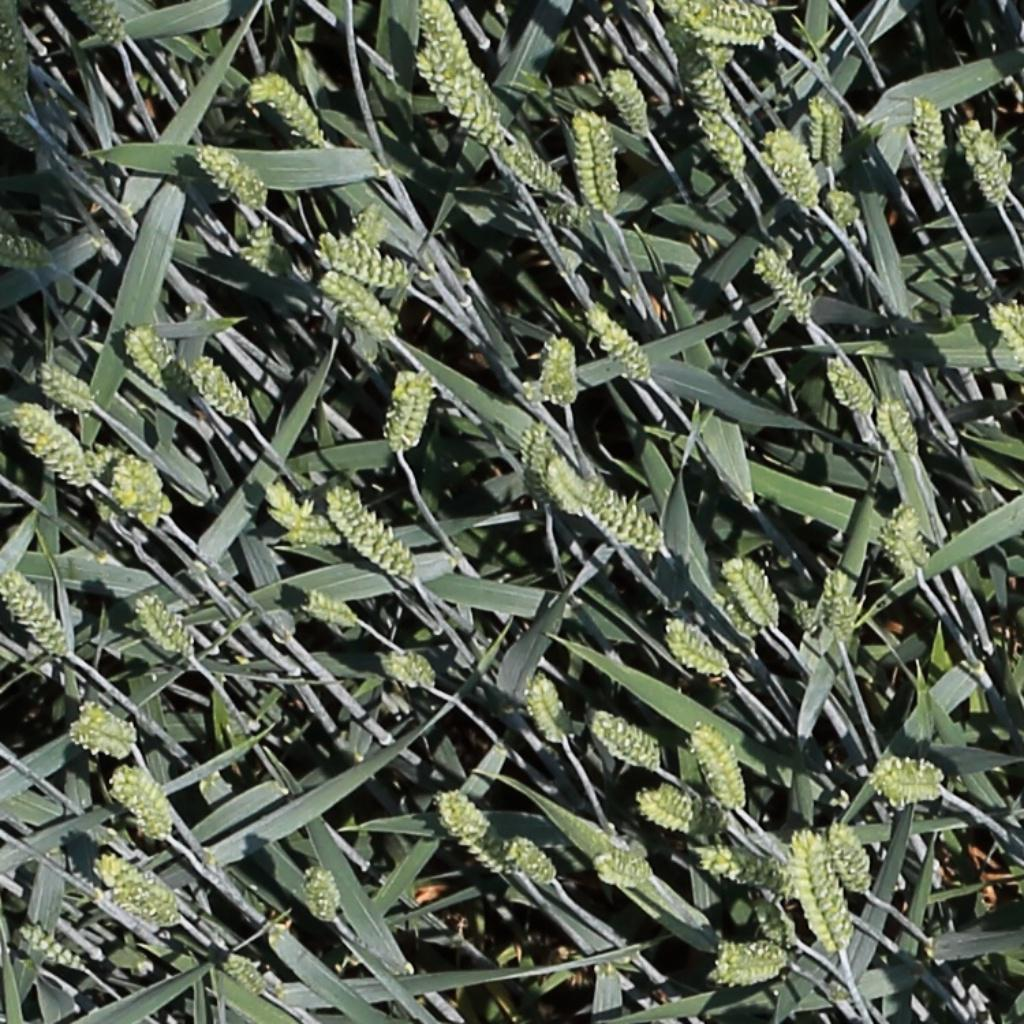0-0: (408, 41, 509, 149), (417, 0, 503, 123), (787, 824, 851, 958), (329, 487, 419, 582), (665, 23, 743, 129), (429, 785, 514, 880), (333, 193, 389, 333), (85, 849, 184, 928), (582, 477, 673, 560), (10, 401, 93, 486), (0, 567, 73, 662), (652, 0, 788, 48), (572, 106, 628, 220), (696, 842, 804, 899), (252, 73, 330, 150), (585, 301, 656, 383), (690, 720, 750, 816), (195, 140, 273, 210), (65, 698, 149, 763), (105, 455, 173, 531), (756, 243, 819, 324), (111, 767, 176, 845), (591, 701, 662, 772), (132, 592, 199, 666), (767, 125, 824, 211), (381, 365, 434, 455), (721, 555, 781, 634), (187, 353, 253, 423), (78, 444, 130, 532), (316, 237, 409, 285), (963, 112, 1016, 195), (697, 102, 752, 181), (320, 273, 394, 330), (519, 666, 567, 750), (607, 64, 658, 143), (826, 350, 882, 421), (708, 942, 788, 991), (909, 88, 947, 191), (828, 821, 876, 901), (67, 0, 145, 49), (501, 140, 567, 195), (669, 622, 734, 677), (124, 320, 172, 394), (882, 502, 930, 576), (640, 795, 726, 836), (537, 329, 577, 415), (869, 755, 943, 801), (219, 950, 286, 1000), (546, 450, 593, 520), (16, 924, 84, 972), (747, 894, 803, 952), (236, 218, 291, 277), (880, 393, 925, 464), (823, 565, 862, 646), (964, 145, 1007, 217), (505, 838, 561, 890), (589, 842, 651, 888), (260, 514, 346, 547), (38, 361, 95, 410), (522, 416, 552, 507), (293, 589, 360, 629), (985, 299, 1024, 367), (705, 582, 756, 633), (3, 208, 40, 277), (0, 0, 27, 91), (305, 860, 339, 928), (809, 88, 836, 166), (270, 483, 311, 532), (640, 794, 694, 831), (0, 107, 41, 155), (382, 653, 434, 690), (826, 180, 862, 233), (823, 92, 847, 169), (539, 199, 592, 233), (792, 592, 828, 637)
